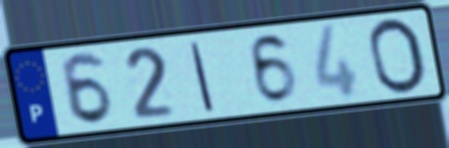2: (123, 44, 178, 122)
4: (313, 20, 366, 103)
6: (59, 49, 117, 128), (246, 31, 301, 106)
I: (187, 40, 217, 114)
O: (366, 15, 431, 97)
